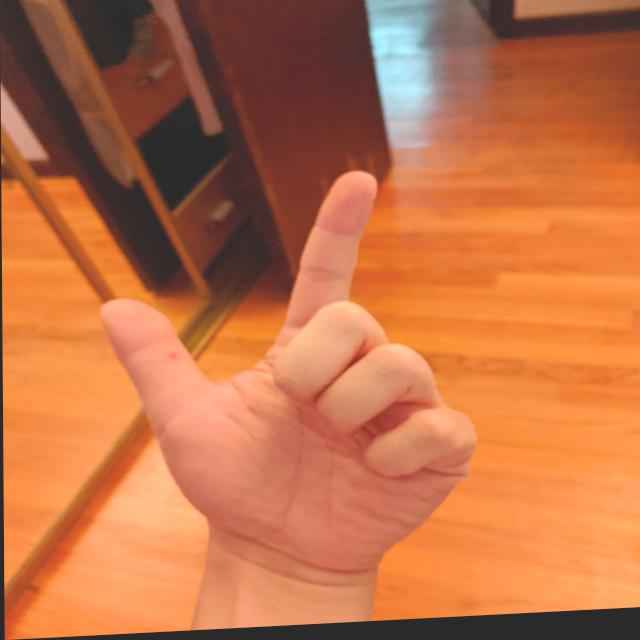L: (90, 162, 490, 584)
